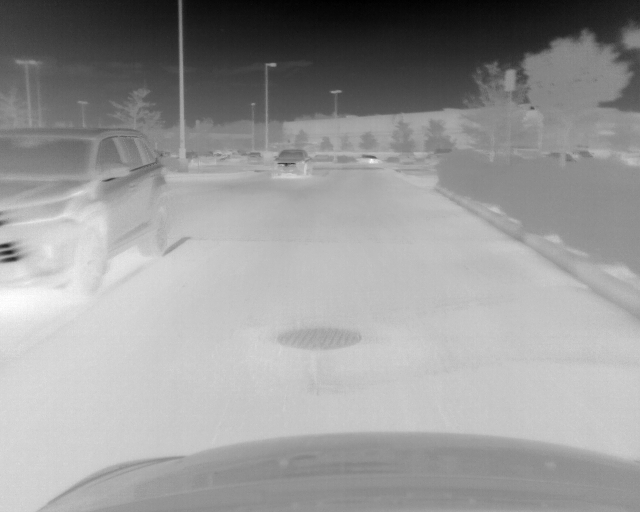car: (1, 127, 171, 301), (274, 149, 312, 176), (247, 151, 263, 163)
